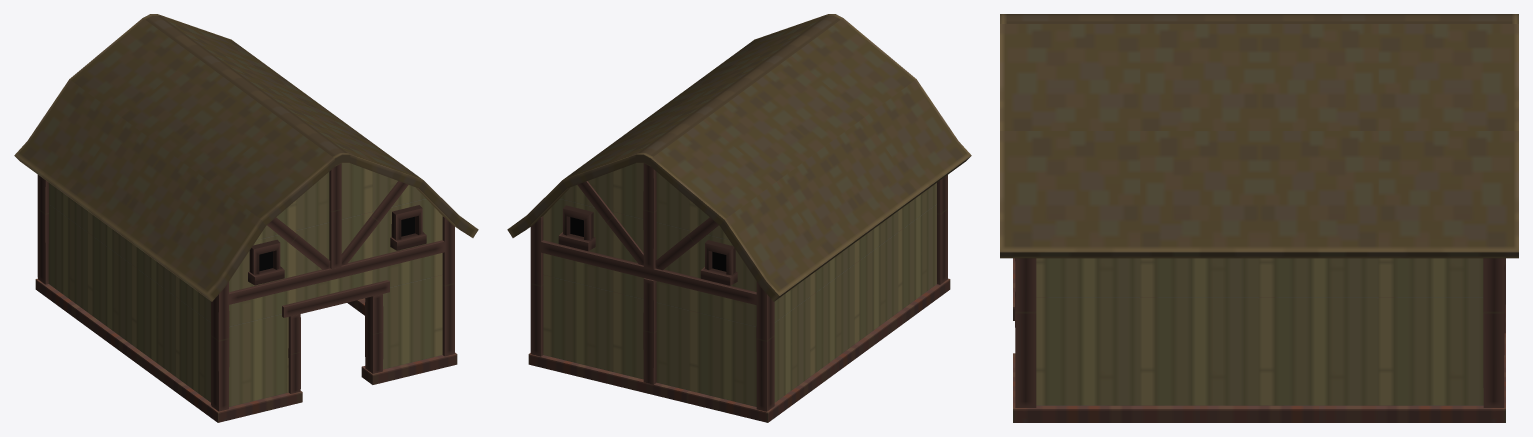
The model's file is barn_005.fbx.
The picture shows the model from 3 angles, left to right: view 1: azimuth 30°, elevation 25°; view 2: azimuth 150°, elevation 25°; view 3: azimuth 270°, elevation 25°; orthographic projection. The views are drawn at different scales.
Visible parts, largest first — view 1: barn_005; view 2: barn_005; view 3: barn_005.
Part boxes in pixels (left/top/right/bottom): barn_005: left=14, top=14, right=478, bottom=422; barn_005: left=507, top=14, right=971, bottom=422; barn_005: left=1000, top=14, right=1518, bottom=422.
Size of the model in its own units: 712 by 606 by 870.
